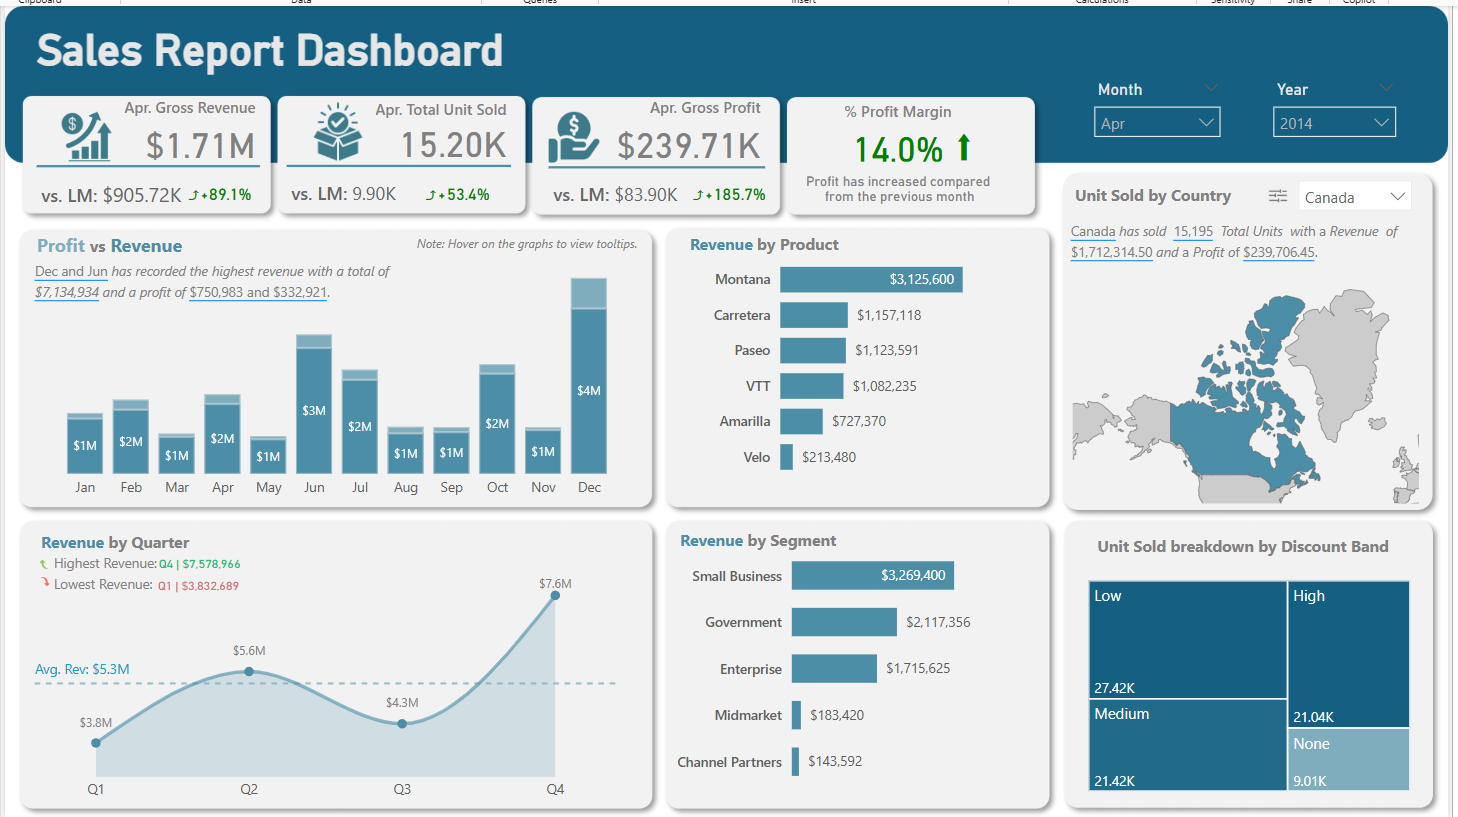

This screenshot's page, from the dashboard's own definition file:
{"tool":"powerbi","page":{"name":"Sales","canvas":[1280,720],"ordinal":0},"visuals":[{"type":"cardVisual","title":"Gross Revenue","fields":{"Data":["Measures (2).Total Revenue"]},"box":[23.3,77.8,208.9,111.1],"z":0},{"type":"cardVisual","title":"Gross Revenue","fields":{"Data":["Measures (2).Total Profit"]},"box":[476.7,77.6,202.6,110.9],"z":1000},{"type":"cardVisual","fields":{"Data":["Measures (2).Total Unit sold"]},"box":[244.9,79.6,209.6,110.9],"z":2000},{"type":"card","fields":{"Values":["Measures (2).MoM Change Gross Revenue"]},"box":[146.1,151.2,86.7,34.3],"z":3000},{"type":"card","fields":{"Values":["Measures (2).MoM Change Gross Profit"]},"box":[601.7,146.1,78.6,44.3],"z":4000},{"type":"card","fields":{"Values":["Measures (2).MoM Change Unit Sold"]},"box":[362.8,148.2,75.6,40.3],"z":5000},{"type":"slicer","fields":{"Values":["Calendar.Year"]},"box":[1114.6,61.2,128.6,73.6],"z":6000},{"type":"shapeMap","title":" Revenue by Country","fields":{"Category":["financials.Country"],"Value":["Measures (2).Total Unit sold"]},"box":[941.5,241.6,316.6,204.1],"z":7000},{"type":"treemap","title":"Profit by Discount Band","fields":{"Group":["financials.Discount Band"],"Values":["Measures (2).Total Unit sold"]},"box":[955.9,504.5,295.3,196.8],"z":8000},{"type":"barChart","title":"Revenue by Product Category","fields":{"Category":["financials.Product"],"Y":["Measures (2).Total Revenue"]},"box":[621.6,205.7,293.5,224.3],"z":9000},{"type":"barChart","title":" Revenue by Segment","fields":{"Category":["financials.Segment"],"Y":["Measures (2).Total Revenue"]},"box":[589.7,462.9,313.9,243],"z":10000},{"type":"slicer","fields":{"Values":["Calendar.Month Short"]},"box":[956,61,132,74],"z":11000},{"type":"textbox","box":[23.1,196,156.9,33.7],"z":12000},{"type":"textbox","box":[23,459,213,34],"z":13000},{"type":"textbox","box":[940,151.8,180,33.6],"z":14000},{"type":"slicer","fields":{"Values":["financials.Country"]},"box":[1136.9,144.1,120.9,44.3],"z":15000},{"type":"textbox","box":[589.7,457.5,179.1,34.6],"z":16000},{"type":"textbox","box":[602.1,196,179.1,34.6],"z":17000},{"type":"textbox","box":[955.9,462.9,317.4,33.7],"z":18000},{"type":"textbox","box":[23.3,11.1,492.2,58.9],"z":19000},{"type":"cardVisual","title":"Gross Revenue","fields":{"Data":["Measures (2).% Profit Margin"]},"box":[710.2,70,163.2,73.6],"z":20000},{"type":"card","fields":{"Values":["Measures (2).Profit Arrows"]},"box":[827.3,100.2,46.1,47.9],"z":21000},{"type":"card","fields":{"Values":["Measures (2).Title % Profit"]},"box":[691.4,131,203.6,64.5],"z":22000},{"type":"textbox","box":[940,185,329,57],"z":23000},{"type":"image","box":[1106.6,154.2,43.3,28.2],"z":24000},{"type":"image","box":[260,79.6,70.6,63.5],"z":25000},{"type":"image","box":[45.4,87.7,54.4,56.4],"z":26000},{"type":"image","box":[477,88,55,56],"z":27000},{"type":"columnChart","fields":{"Category":["Calendar.Month Short"],"Y":["Measures (2).Total Revenue","Measures (2).Total Profit"]},"box":[33.7,219.9,522.3,225.2],"z":28000},{"type":"textbox","box":[21,221,329,90],"z":29000},{"type":"areaChart","fields":{"Category":["Calendar.Qtr"],"Y":["Measures (2).Total Revenue"]},"box":[21.2,493.9,526.1,218.7],"z":30000},{"type":"card","fields":{"Values":["Measures (2).Caption Highest Expenses"]},"box":[113.8,476.9,118.1,39.4],"z":33000},{"type":"card","fields":{"Values":["Measures (2).Caption Lowest Revenue"]},"box":[113.9,498.9,115.9,34.3],"z":34000},{"type":"textbox","box":[38.2,480,121.8,30.9],"z":35000},{"type":"textbox","box":[38.2,498.2,121.8,30.9],"z":36000},{"type":"image","box":[25.3,484.1,18.2,22.4],"z":37000},{"type":"image","box":[26.2,498.8,17.5,24.4],"z":38000},{"type":"textbox","box":[360,196,218.1,32.8],"z":39000}]}

Visuals, with their boxes on the page's 1280x720 design canvas (x1, y1, x2, y2). These are canvas units, not pixel positions in the 1458x817 screenshot, which may show the page scaled, cropped or inside an application window:
"Gross Revenue" cardVisual: select_region(23, 78, 232, 189)
"Gross Revenue" cardVisual: select_region(477, 78, 679, 188)
cardVisual - Measures (2).Total Unit sold: select_region(245, 80, 454, 190)
card - Measures (2).MoM Change Gross Revenue: select_region(146, 151, 233, 186)
card - Measures (2).MoM Change Gross Profit: select_region(602, 146, 680, 190)
card - Measures (2).MoM Change Unit Sold: select_region(363, 148, 438, 188)
slicer - Calendar.Year: select_region(1115, 61, 1243, 135)
" Revenue by Country" shapeMap: select_region(942, 242, 1258, 446)
"Profit by Discount Band" treemap: select_region(956, 504, 1251, 701)
"Revenue by Product Category" barChart: select_region(622, 206, 915, 430)
" Revenue by Segment" barChart: select_region(590, 463, 904, 706)
slicer - Calendar.Month Short: select_region(956, 61, 1088, 135)
textbox: select_region(23, 196, 180, 230)
textbox: select_region(23, 459, 236, 493)
textbox: select_region(940, 152, 1120, 185)
slicer - financials.Country: select_region(1137, 144, 1258, 188)
textbox: select_region(590, 458, 769, 492)
textbox: select_region(602, 196, 781, 231)
textbox: select_region(956, 463, 1273, 497)
textbox: select_region(23, 11, 516, 70)
"Gross Revenue" cardVisual: select_region(710, 70, 873, 144)
card - Measures (2).Profit Arrows: select_region(827, 100, 873, 148)
card - Measures (2).Title % Profit: select_region(691, 131, 895, 196)
textbox: select_region(940, 185, 1269, 242)
image: select_region(1107, 154, 1150, 182)
image: select_region(260, 80, 331, 143)
image: select_region(45, 88, 100, 144)
image: select_region(477, 88, 532, 144)
columnChart - Calendar.Month Short x Measures (2).Total Revenue: select_region(34, 220, 556, 445)
textbox: select_region(21, 221, 350, 311)
areaChart - Calendar.Qtr x Measures (2).Total Revenue: select_region(21, 494, 547, 713)
card - Measures (2).Caption Highest Expenses: select_region(114, 477, 232, 516)
card - Measures (2).Caption Lowest Revenue: select_region(114, 499, 230, 533)
textbox: select_region(38, 480, 160, 511)
textbox: select_region(38, 498, 160, 529)
image: select_region(25, 484, 44, 506)
image: select_region(26, 499, 44, 523)
textbox: select_region(360, 196, 578, 229)
